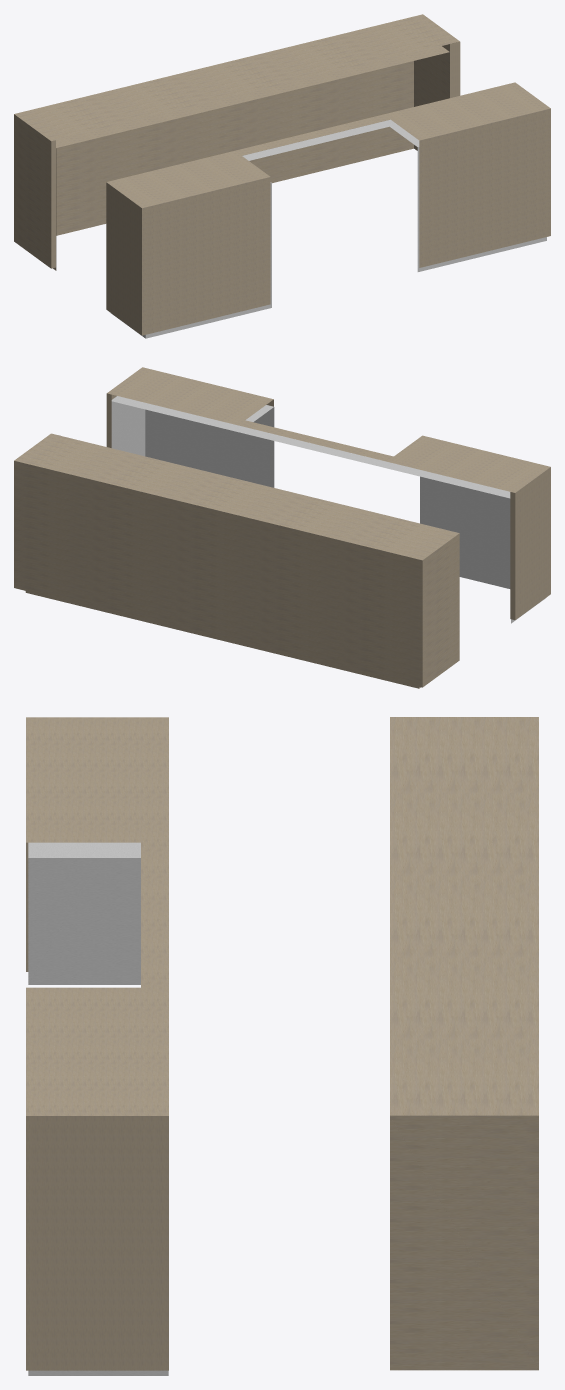
File: 1216 building 01.fbx
The picture shows the model from 3 angles, top to bottom: view 1: azimuth 30°, elevation 25°; view 2: azimuth 150°, elevation 25°; view 3: azimuth 270°, elevation 25°; orthographic projection. The views are drawn at different scales.
Parts seen in each view (by area): view 1: bottom floor; view 2: bottom floor; view 3: bottom floor.
Boxes of the visible parts, <box> form: bottom floor: <box>14,14,550,338</box>; bottom floor: <box>14,367,550,688</box>; bottom floor: <box>26,717,538,1375</box>.
Size of the model in its own units: 632 by 343 by 195.
Materials: 2 (2 with a texture image).
